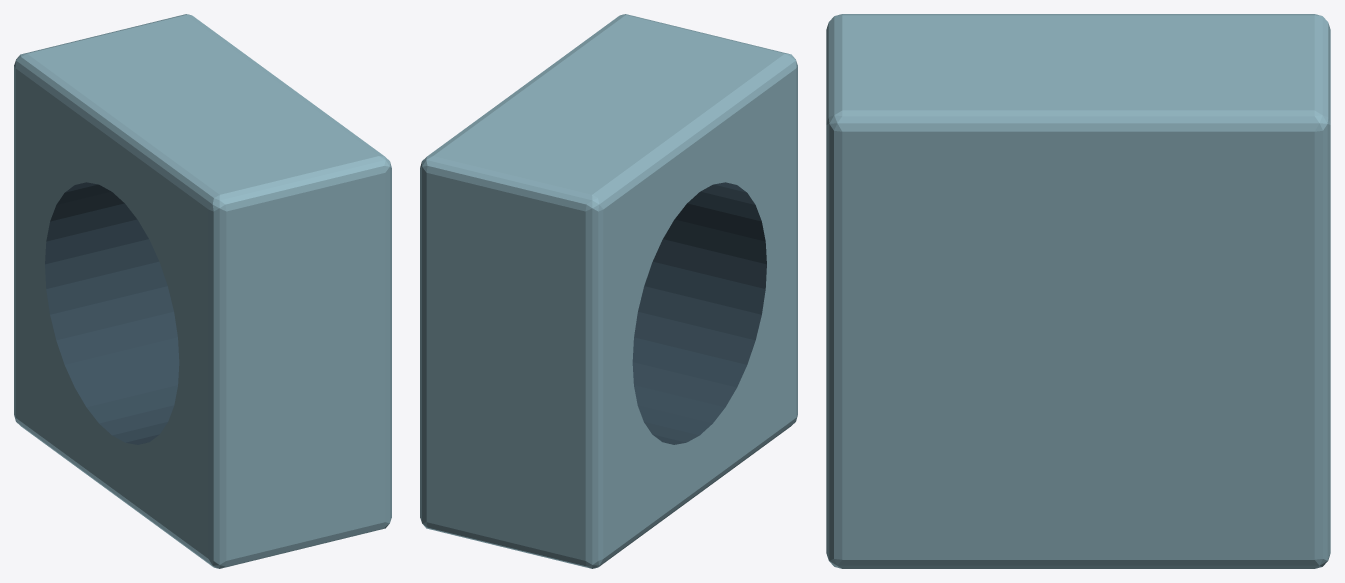
The picture shows the model from 3 angles, left to right: view 1: azimuth 30°, elevation 25°; view 2: azimuth 150°, elevation 25°; view 3: azimuth 270°, elevation 25°; orthographic projection. The views are drawn at different scales.
Visible parts, largest first — view 1: geometry_0; view 2: geometry_0; view 3: geometry_0.
Boxes of the visible parts, x1=… form: geometry_0: x1=14, y1=14, x2=391, y2=568; geometry_0: x1=420, y1=14, x2=797, y2=568; geometry_0: x1=826, y1=14, x2=1330, y2=568.
Bounding box in the file's own units: 0.016 × 0.0314 × 0.0314.
1 material, 1 textured.
